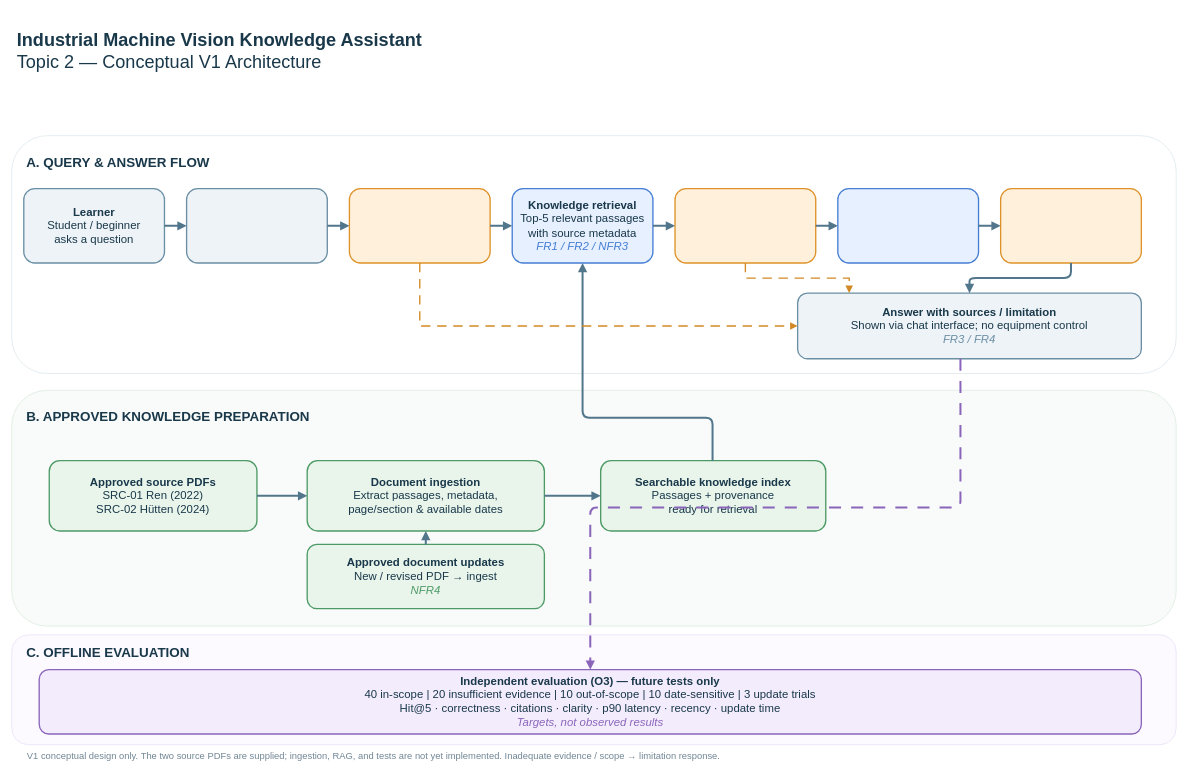
Image size: 1188x776. Some labels were removed from this diagram. The centre of each missing label's shape, as x and y in pixels:
Application interface Chat question and answer display: [257,225]
Citation & answer Verify source support and key technical claims FR3 / RAI2: [1071,225]
Evidence & recency Missing support → limit Dated evidence → caveat RAI1 / RAI3: [745,225]
Language model Grounded, plain-language technical explanation FR5 / NFR2: [908,225]
Scope screening Out-of-scope request → clear limitation FR4: [419,225]
